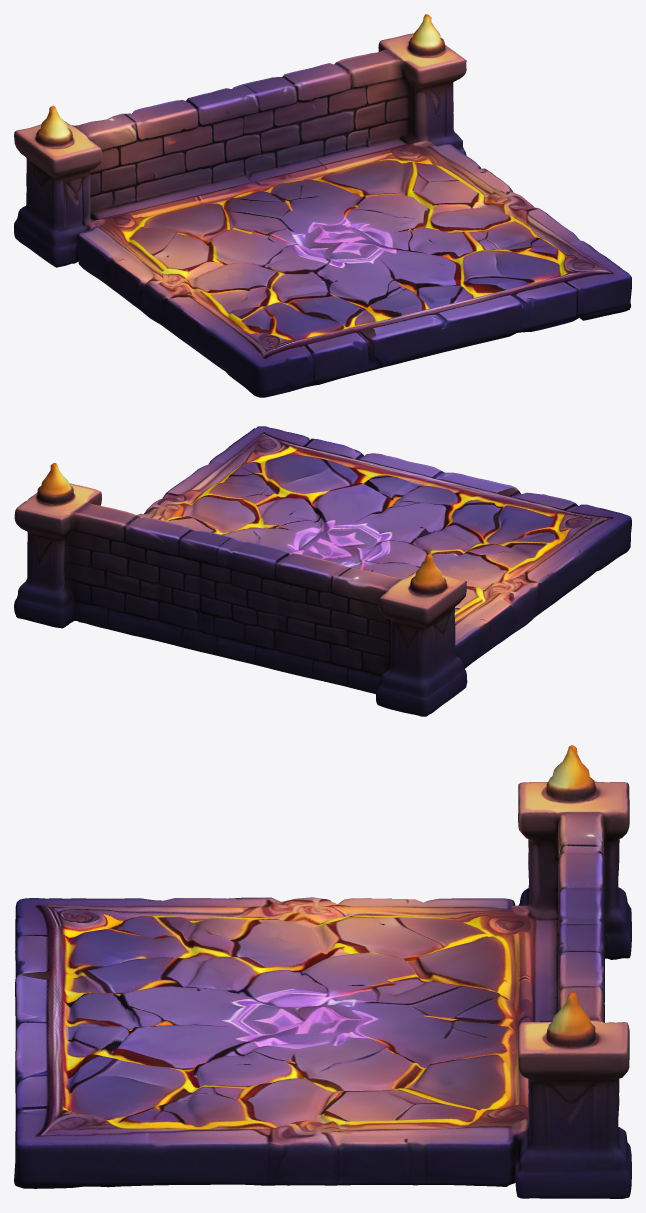
The model's file is arena_otimizada.glb.
The picture shows the model from 3 angles, top to bottom: view 1: azimuth 30°, elevation 25°; view 2: azimuth 150°, elevation 25°; view 3: azimuth 270°, elevation 25°; orthographic projection. The views are drawn at different scales.
Parts seen in each view (by area): view 1: model; view 2: model; view 3: model.
Part boxes in pixels (x1,y1,x2,y2): model: (14,14,631,397); model: (14,426,631,716); model: (14,745,631,1198).
Bounding box in the file's own units: 1.78 × 0.5946 × 1.7.
Materials: 1 (1 with a texture image).
